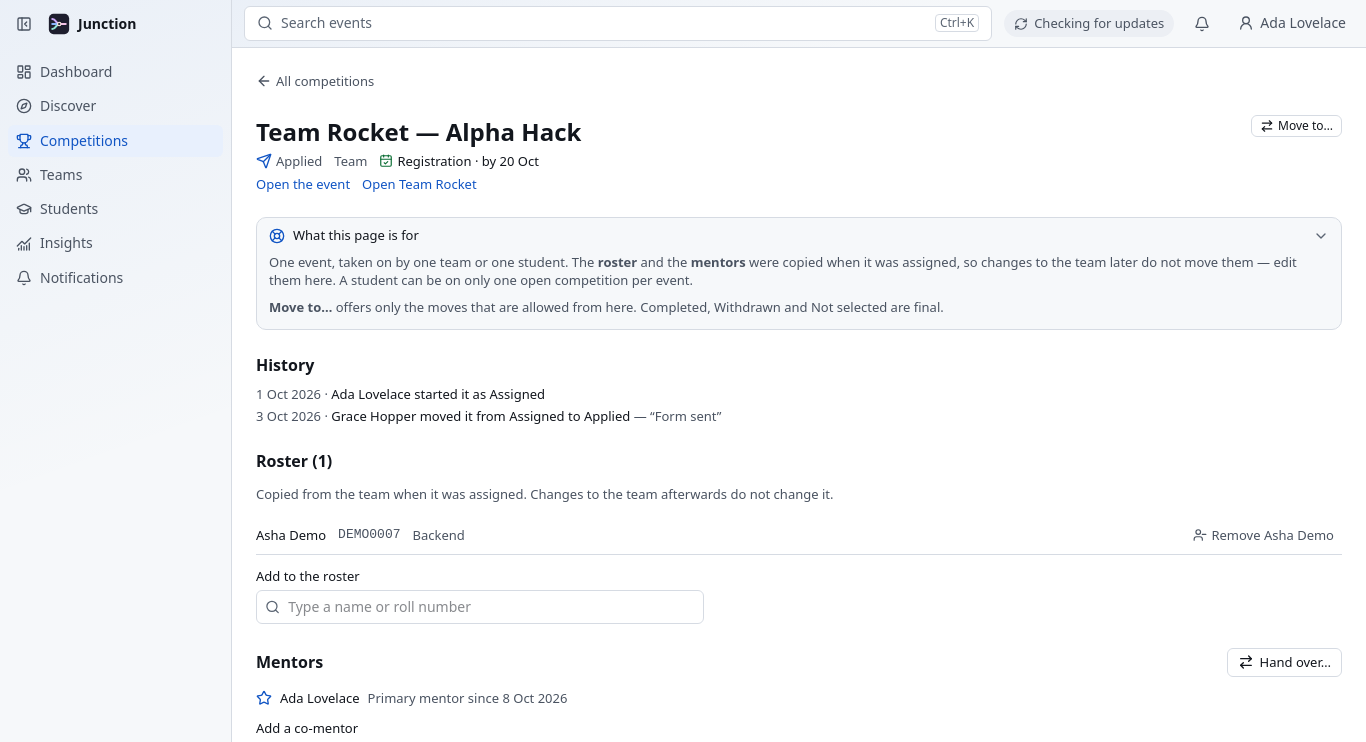
Test case: the competition page › tells its history in words and offers only the allowed moves
This screenshot has width=1366, height=742.
Expected: the navigation bar named "Main" is shown, [0,0,231,302]
Expected: the heading "Team Rocket — Alpha Hack" is shown, [256,115,581,148]
Click the button with aria-label "Move Team Rocket to". click: [1296, 126]
box: [1251,115,1342,137]
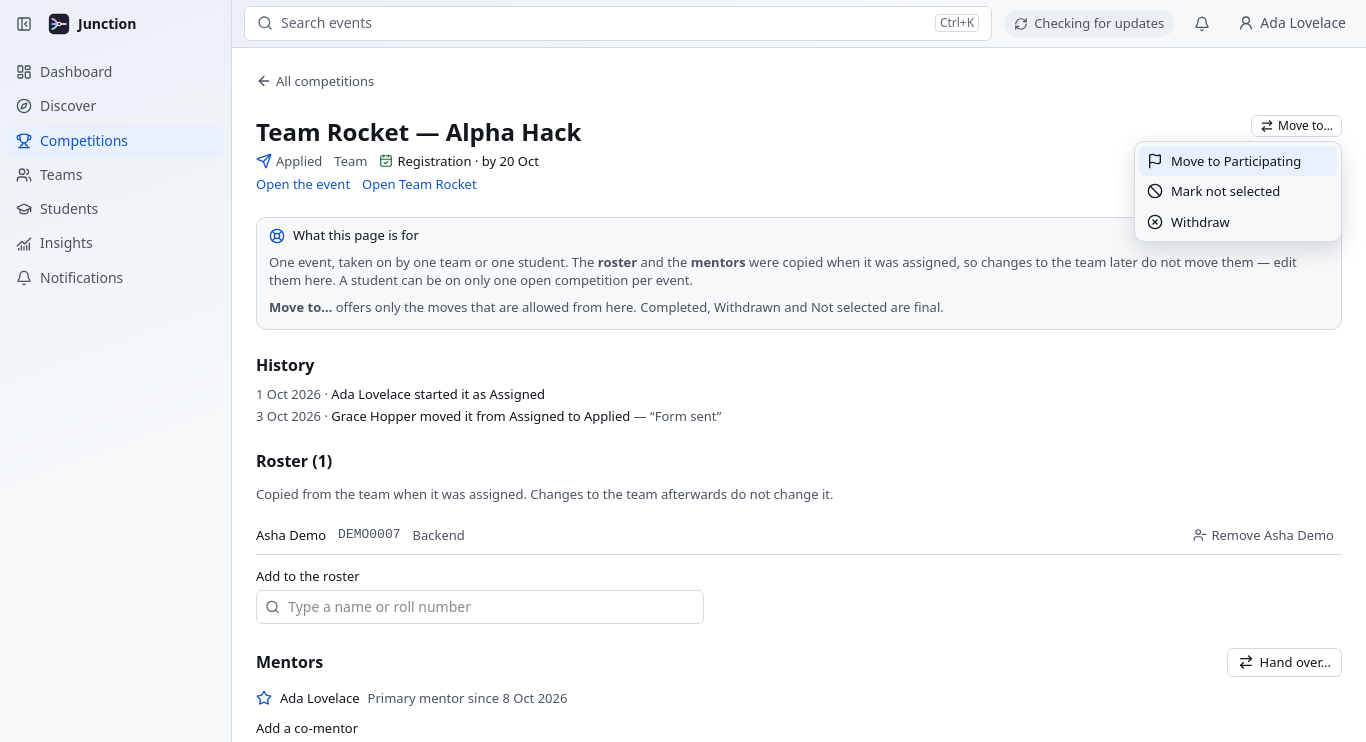
Expected: the menu items read "Move to Participating", "Mark not selected", "Withdraw", in this order, [1139,146,1337,176]; [1139,176,1337,207]; [1139,207,1337,237]
